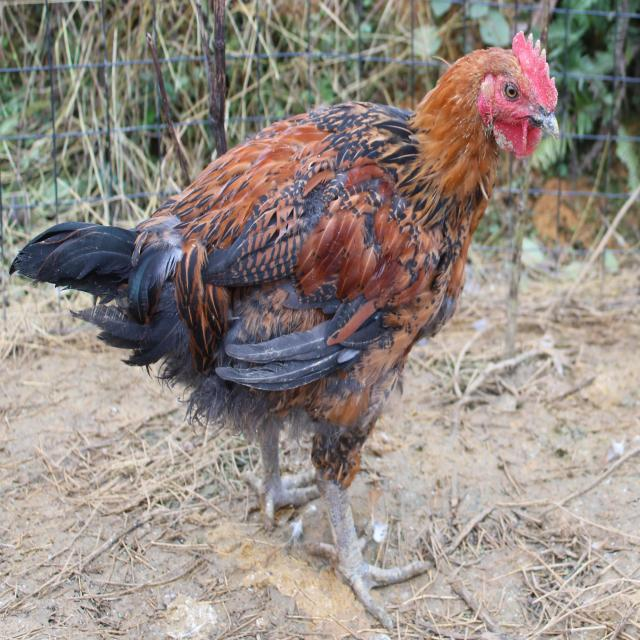hen: (11, 33, 559, 626)
